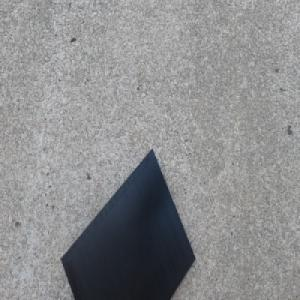PlasticPart: (59, 147, 196, 300)
